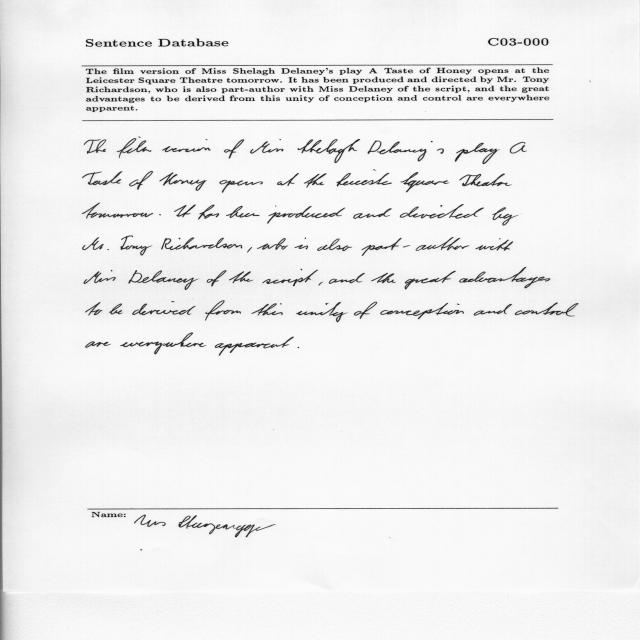word: (362, 237, 470, 256), (459, 268, 550, 289), (121, 333, 207, 354), (368, 141, 444, 162), (215, 337, 294, 356), (298, 139, 360, 163), (129, 270, 199, 290), (380, 303, 464, 319), (267, 206, 345, 223), (400, 204, 484, 219), (83, 203, 154, 219), (161, 237, 243, 250), (296, 302, 348, 322), (404, 271, 456, 290), (400, 172, 449, 192), (336, 170, 392, 187), (455, 143, 500, 164), (263, 269, 318, 286), (159, 172, 207, 191), (132, 301, 196, 315), (515, 303, 579, 317), (205, 301, 241, 321), (117, 137, 151, 158), (459, 174, 512, 186), (162, 139, 210, 152), (121, 236, 153, 255), (226, 206, 276, 218), (219, 180, 263, 193), (83, 171, 123, 185), (250, 139, 284, 154), (476, 238, 514, 251), (492, 208, 519, 226), (129, 171, 153, 190), (474, 304, 512, 316), (84, 270, 116, 284), (353, 208, 392, 219), (317, 239, 352, 251), (251, 303, 283, 316), (329, 273, 365, 284), (354, 302, 377, 319), (224, 140, 244, 159), (257, 238, 288, 250), (207, 270, 227, 287), (83, 237, 109, 250), (85, 139, 107, 154), (304, 173, 326, 188), (198, 205, 219, 220), (229, 271, 253, 283), (277, 173, 299, 186), (174, 205, 196, 218), (371, 273, 396, 283), (86, 302, 103, 316), (510, 142, 527, 153), (86, 341, 111, 348), (109, 304, 123, 315), (295, 238, 308, 249), (247, 247, 252, 253), (319, 282, 323, 286), (159, 214, 161, 215), (298, 347, 299, 348)
